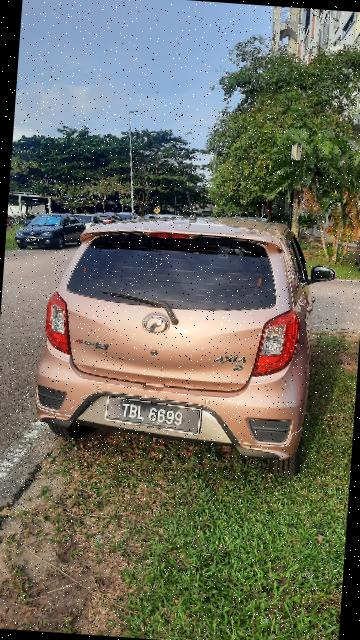License_Plate: (98, 387, 209, 445)
car: (17, 208, 322, 484)
